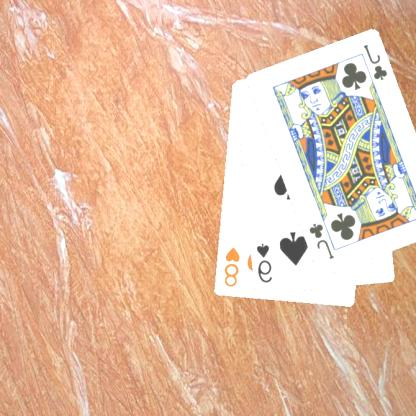6S: (255, 240, 275, 284)
8H: (222, 244, 243, 289)
JC: (307, 221, 337, 262), (362, 42, 390, 82)
